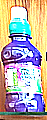blueberries: (1, 6, 46, 112)
